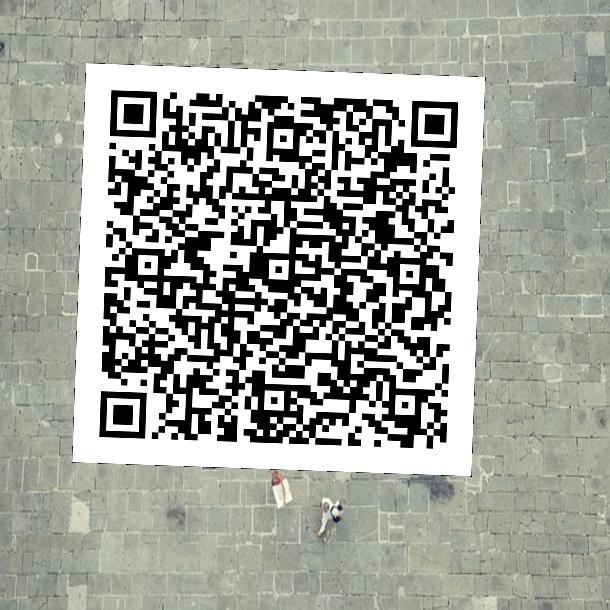qr_code: (72, 63, 485, 476)
